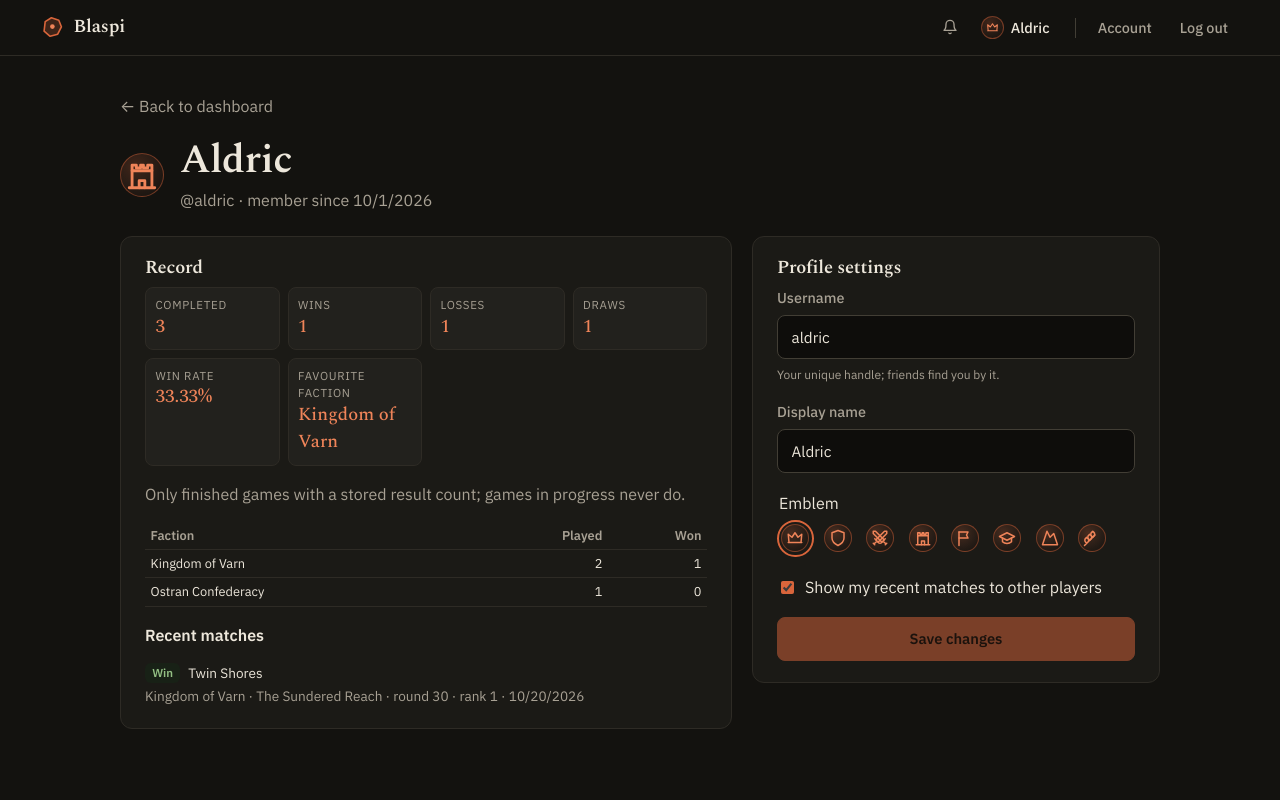
Scenario: Profiles (12A) › validates and saves the owner’s settings
Later steps or results of the test are not shown.
Expected: the button "Save changes" is disabled, [777,617,1135,661]
Replace the text in the field labelled "Username Your unique handle; friends find you by it." with "9lives" at (956, 337), box [777,315,1135,359]
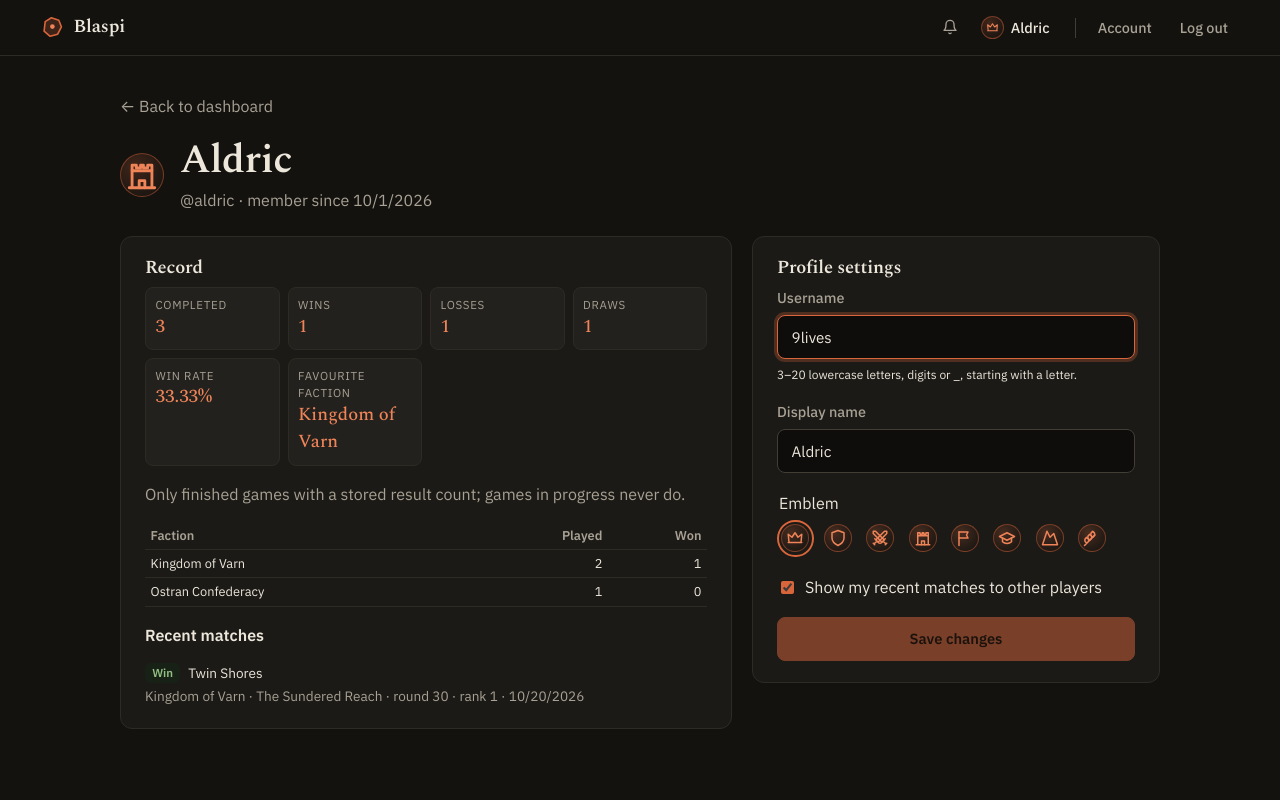
Expected: the button "Save changes" is disabled, [777,617,1135,661]
Now the text "3–20 lowercase letters, digits or _, starting with a letter." is shown, box [777,367,1077,382]
